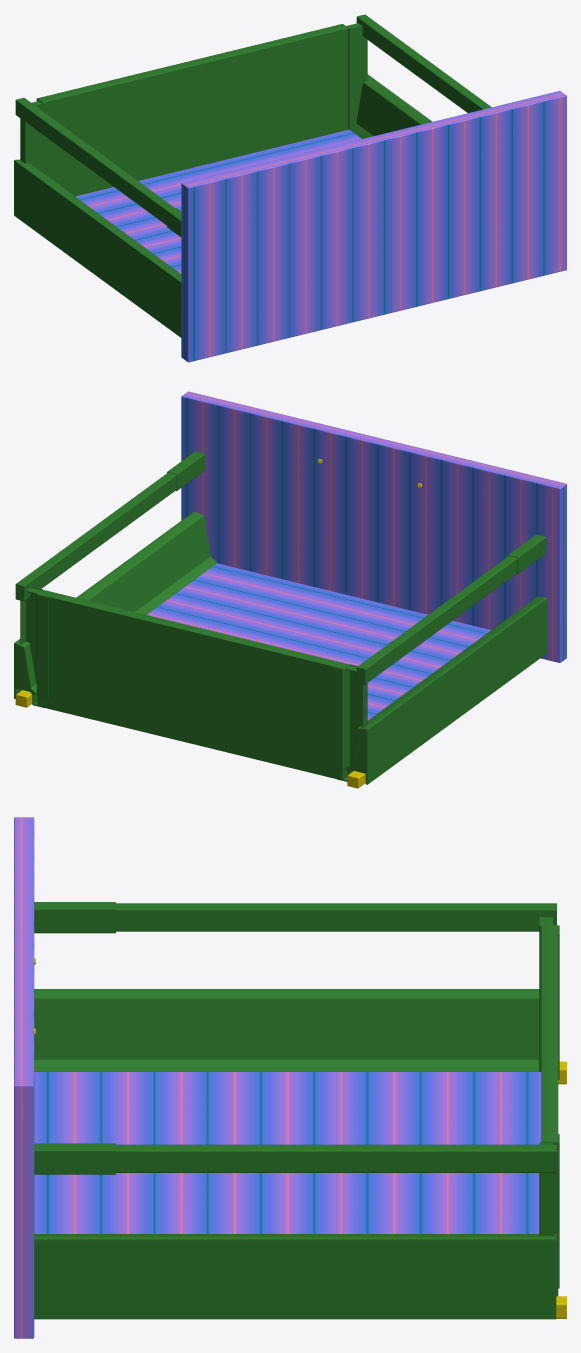
File: SM_Kitchen_05_Base_Drawer_02.fbx
3 renders of one model, top to bottom at view 1: azimuth 30°, elevation 25°; view 2: azimuth 150°, elevation 25°; view 3: azimuth 270°, elevation 25°, orthographic. The views are drawn at different scales.
Parts seen in each view (by area): view 1: SM_Kitchen_05_Base_Drawer_02; view 2: SM_Kitchen_05_Base_Drawer_02; view 3: SM_Kitchen_05_Base_Drawer_02.
Part boxes in pixels (x1,y1,x2,y2): SM_Kitchen_05_Base_Drawer_02: (14, 14, 566, 362); SM_Kitchen_05_Base_Drawer_02: (14, 391, 566, 788); SM_Kitchen_05_Base_Drawer_02: (14, 817, 566, 1338).
Size of the model in its own units: 59.69 by 26.3 by 51.99.
4 materials, 2 textured.
